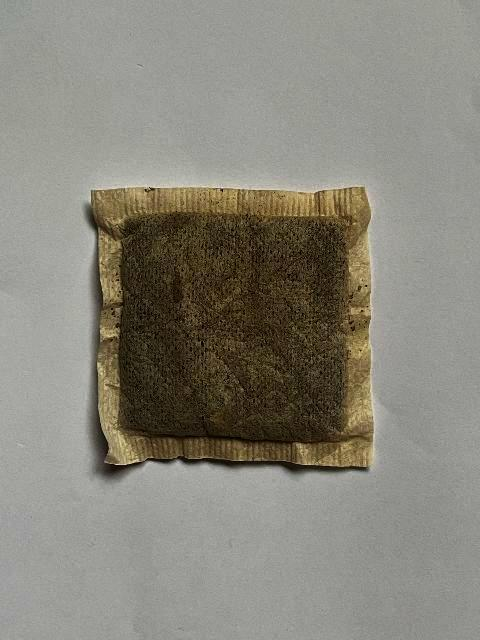teabag: (89, 183, 375, 473)
